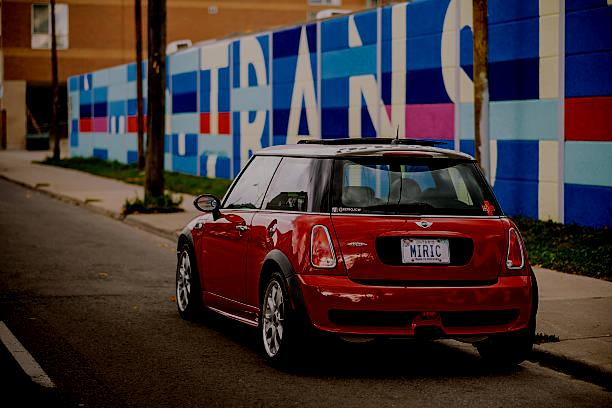mini: (409, 217, 441, 233)
